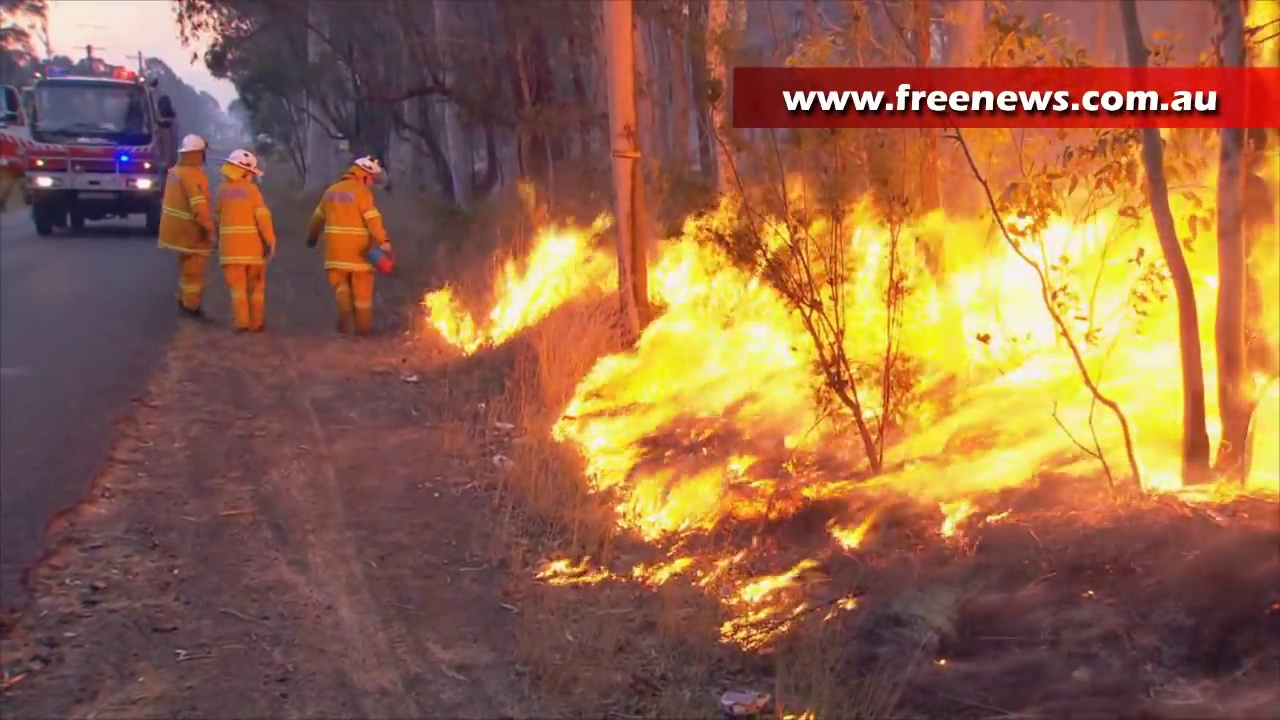fire: (556, 155, 1280, 548), (490, 228, 594, 340), (722, 561, 814, 643), (424, 289, 474, 348), (548, 559, 592, 584)
